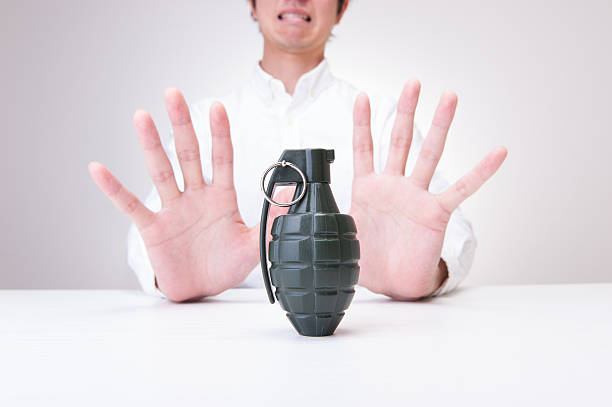e1: (260, 148, 361, 335)
